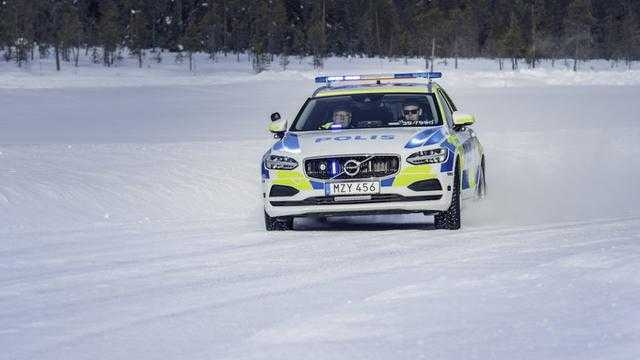Police Car: (246, 52, 490, 250)
